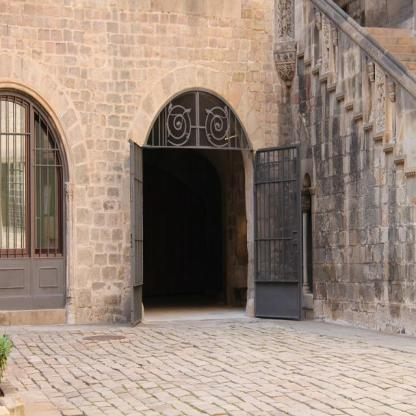door: (124, 125, 307, 339)
